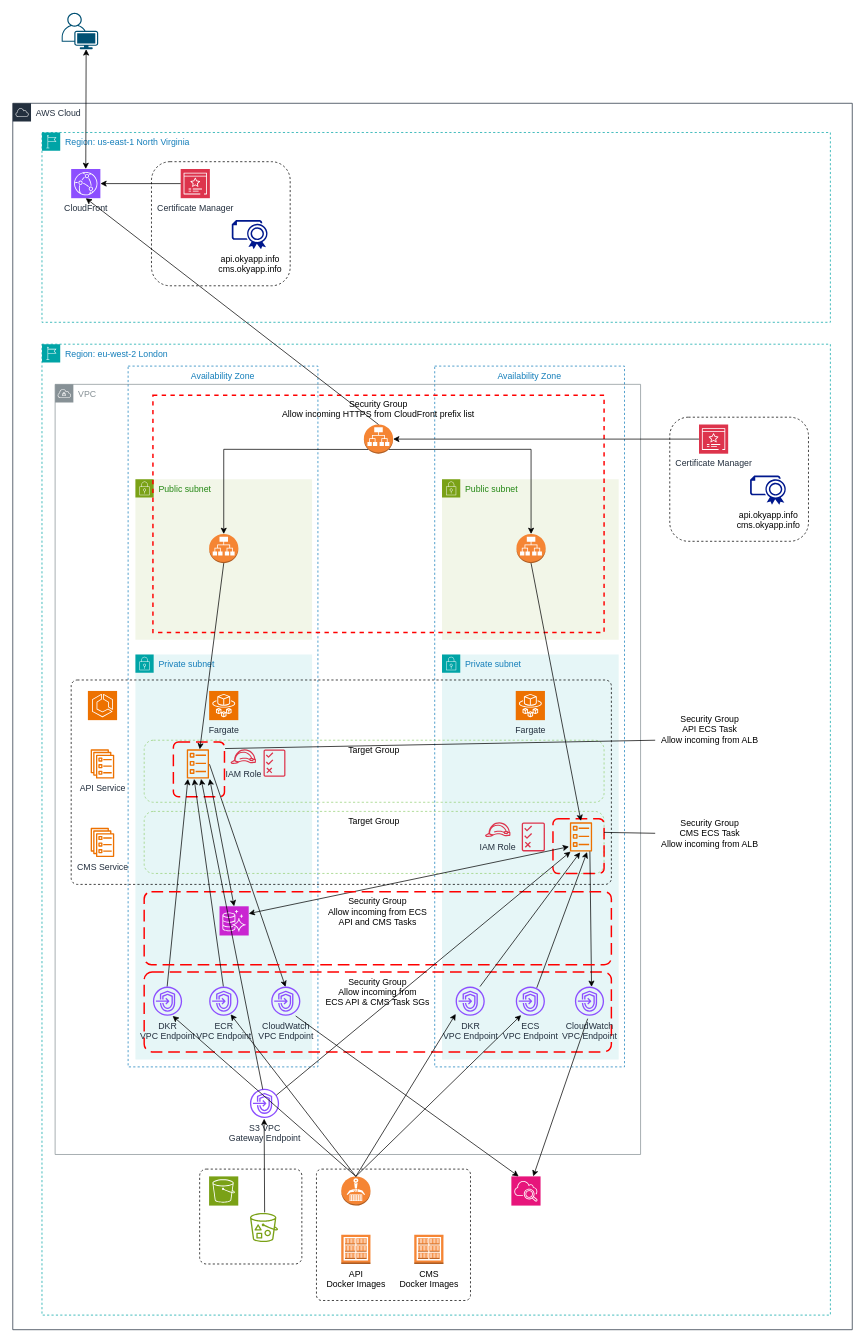
Some shapes in this 865 by 1342 pixel diagram are drawn without their labels. Here are the shapes that lost their labels. From the top down, the centre of each, then its label:
At point (79, 30): "End User".
At point (378, 439): "Application Load Balancer".
At point (102, 705): "ECS".
At point (197, 763): "API Task".
At point (580, 836): "CMS Task".
At point (234, 920): "RDS Aurora for PostgreSQL Serverless".
At point (223, 1191): "S3".
At point (355, 1191): "ECR".
At point (526, 1191): "CloudWatch Logs and Metrics".
At point (264, 1227): "Config Files".
